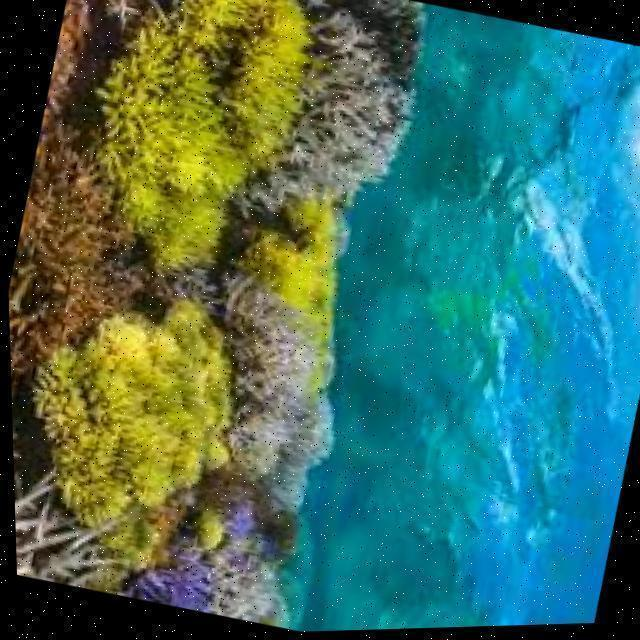Bleached Coral: (227, 315, 341, 489), (302, 59, 414, 194)
Dead Coral: (336, 0, 433, 58)
Healthy Coral: (97, 0, 308, 268), (49, 323, 224, 494), (245, 198, 338, 314), (123, 554, 225, 605), (104, 509, 166, 579), (182, 503, 232, 558)
